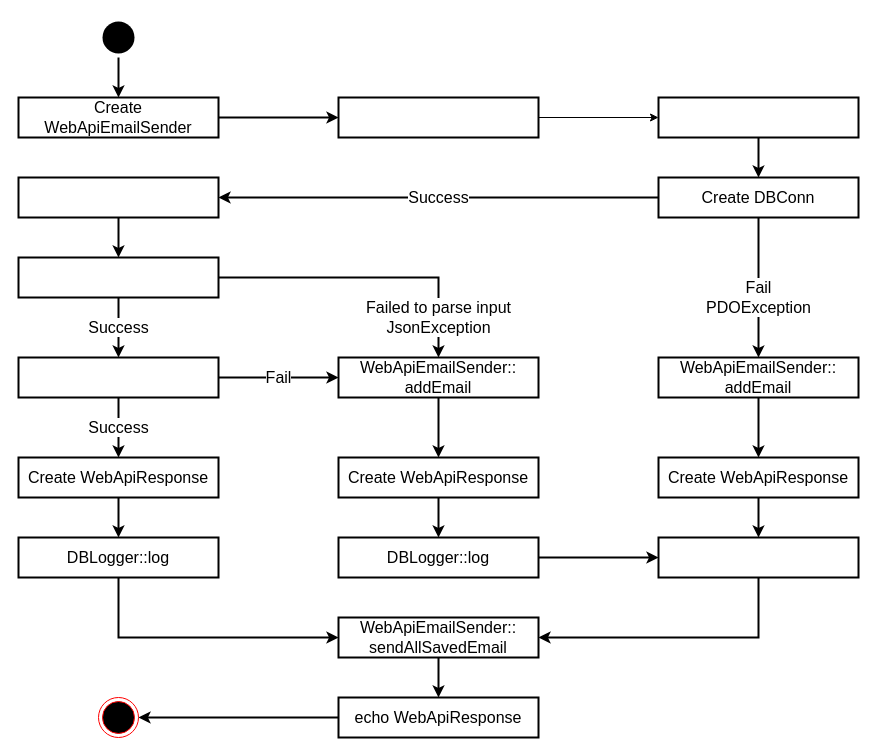
This 876x755 diagram has some shape labels left out. Each missing label, with the centre of its shape:
"Create DBLogger" goes at pixel 118 197.
"Create FileLogger" goes at pixel 438 117.
"FileLogger::logError" goes at pixel 758 557.
"FileLogger::logRecv" goes at pixel 758 117.
"new WebApiRequest" goes at pixel 118 277.
"WebApiResult::run" goes at pixel 118 377.
